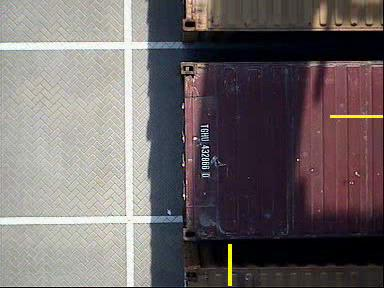groundmarker_2: (136, 180, 196, 217), (134, 8, 194, 45)
